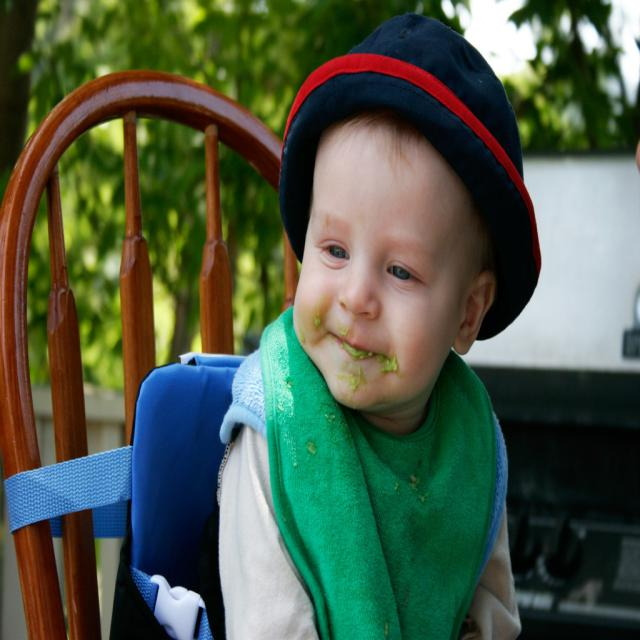Hat: (276, 10, 542, 343)
